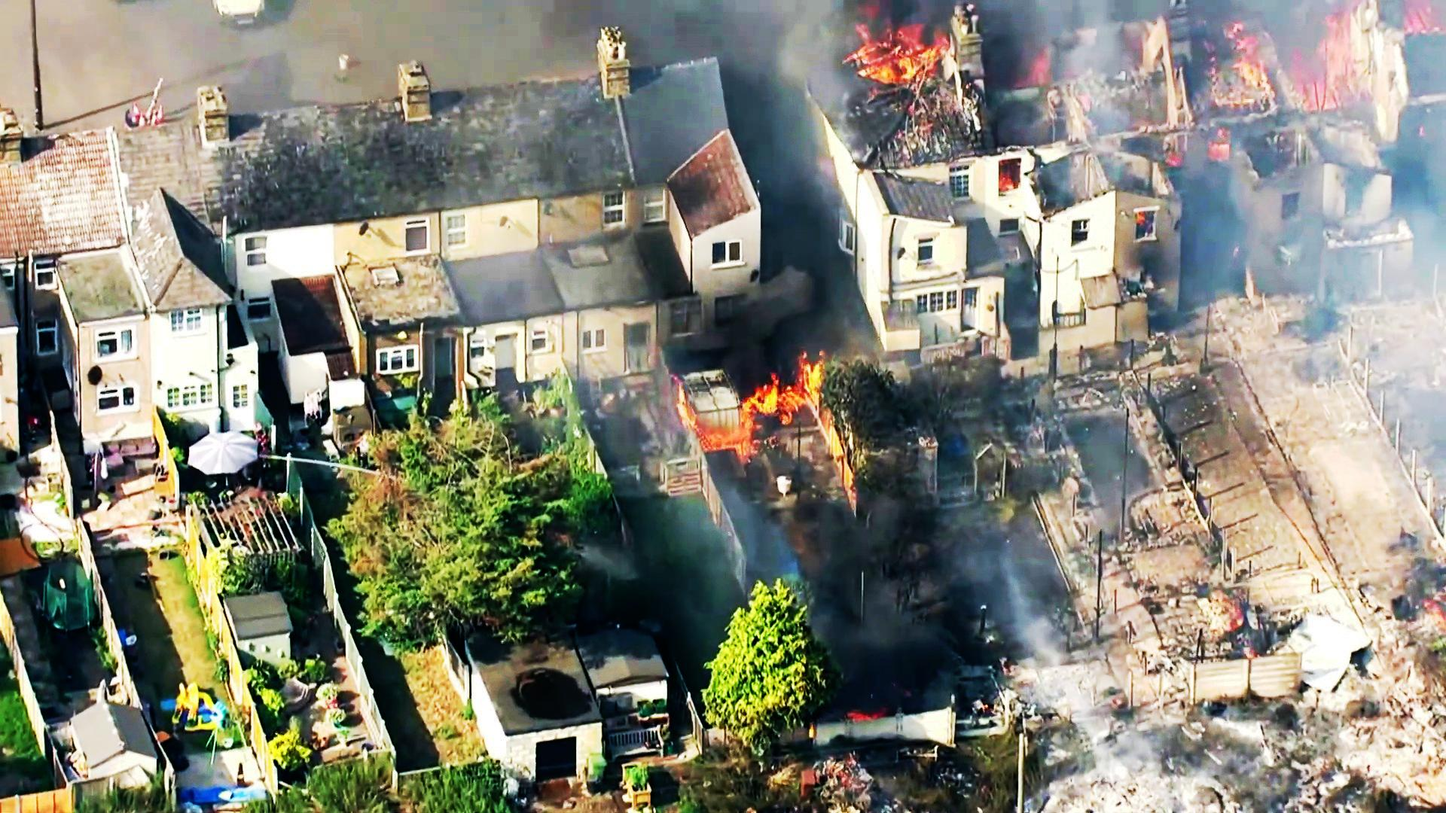fire: (671, 349, 829, 464), (1217, 23, 1376, 115), (842, 10, 951, 91)
